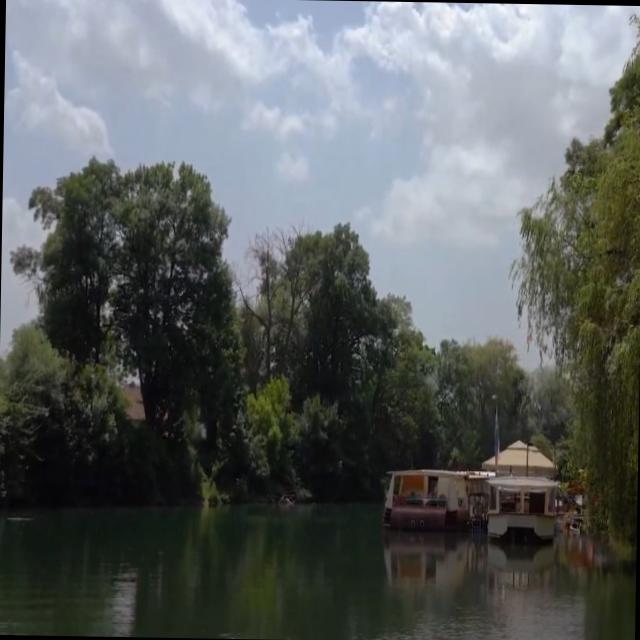boat: (376, 450, 572, 558)
